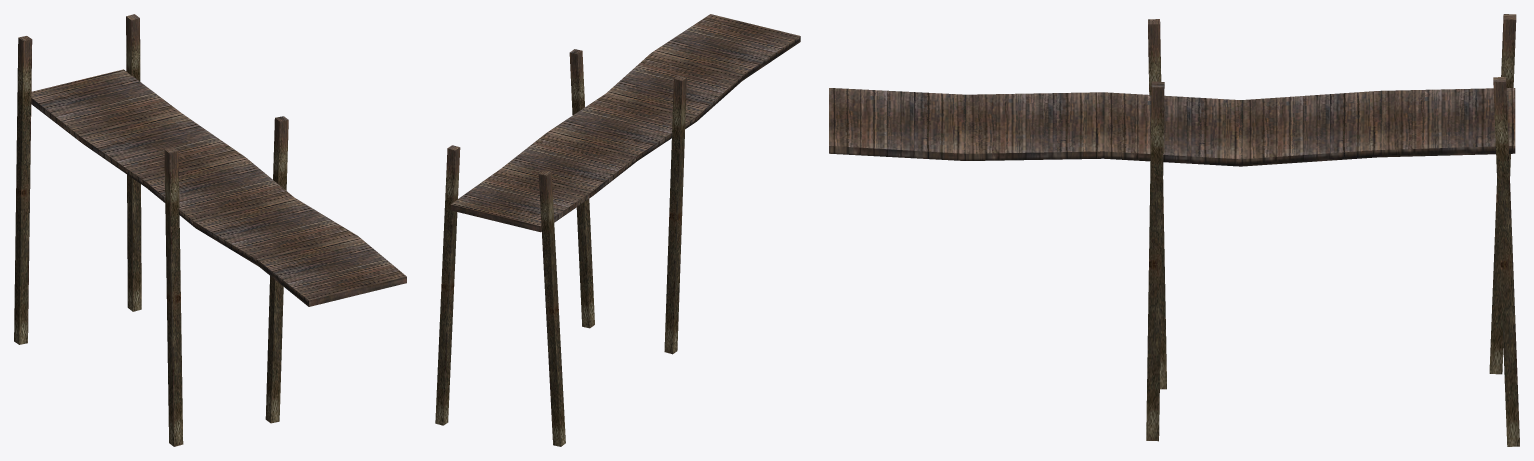
The model's file is PWalk01.glb.
3 renders of one model, left to right at view 1: azimuth 30°, elevation 25°; view 2: azimuth 150°, elevation 25°; view 3: azimuth 270°, elevation 25°, orthographic. The views are drawn at different scales.
Parts seen in each view (by area): view 1: _PWalk01; view 2: _PWalk01; view 3: _PWalk01.
Boxes of the visible parts, x1,y1,x2,y2 form: _PWalk01: (14,14,406,446); _PWalk01: (435,14,800,446); _PWalk01: (829,14,1519,446).
Size of the model in its own units: 3.98 by 8.83 by 15.1.
3 materials, 3 textured.
